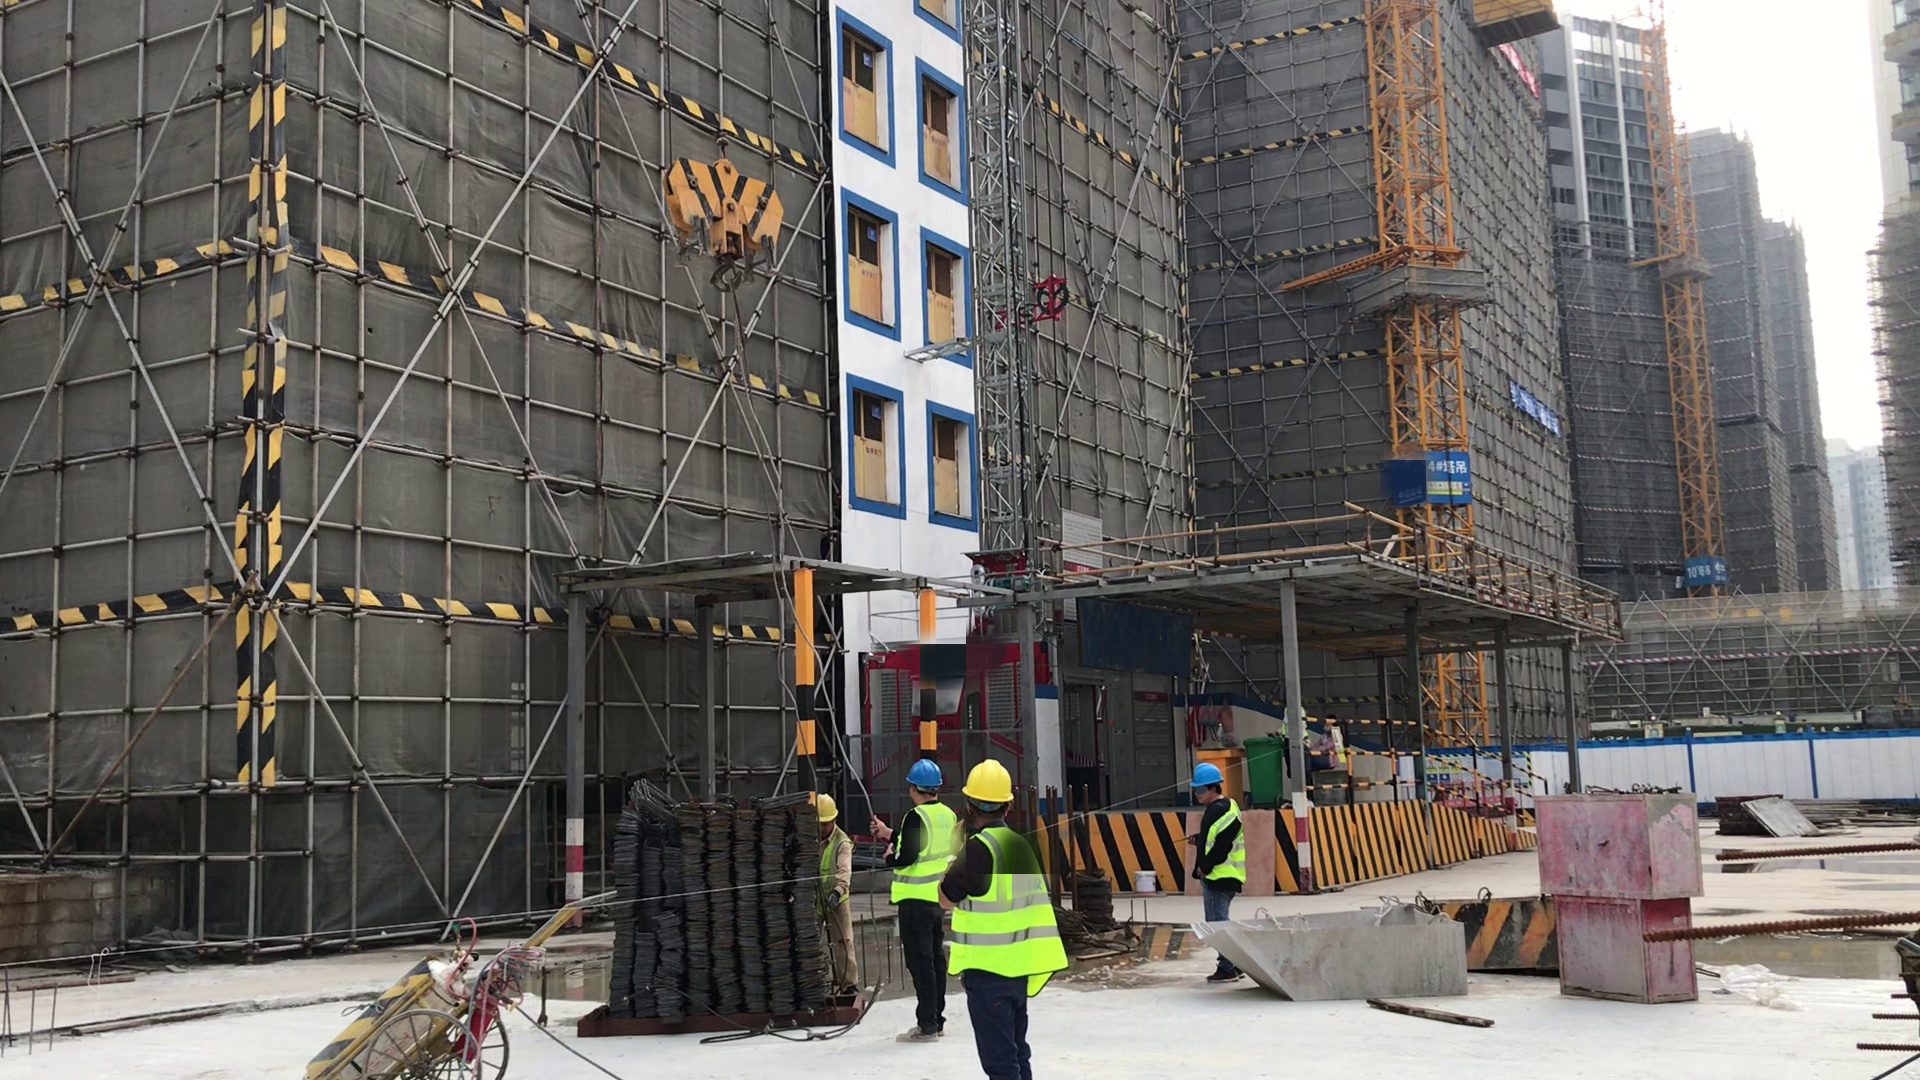fence: (1284, 688, 1553, 818)
handcart: (301, 865, 588, 1080)
helmet: (964, 755, 1017, 809), (900, 755, 947, 792), (807, 790, 840, 828), (1190, 763, 1229, 795)
hook: (642, 135, 794, 287)
hopper: (1192, 891, 1486, 1008), (1434, 868, 1573, 993)
person: (958, 763, 1077, 1080), (889, 756, 962, 1048), (1181, 755, 1249, 989), (808, 791, 868, 1002)
slogan: (1501, 372, 1581, 450), (1500, 50, 1535, 94)
vest: (953, 830, 1071, 999), (893, 799, 954, 913), (1194, 800, 1257, 898), (817, 825, 851, 895)
